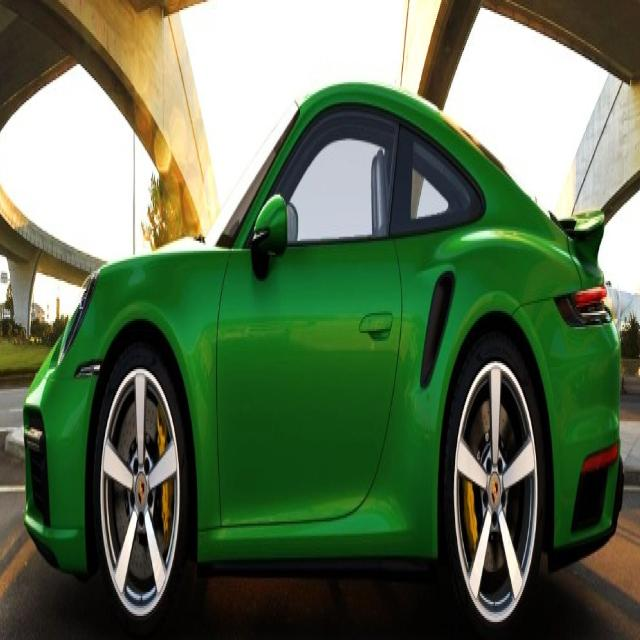green: (25, 79, 624, 640)
